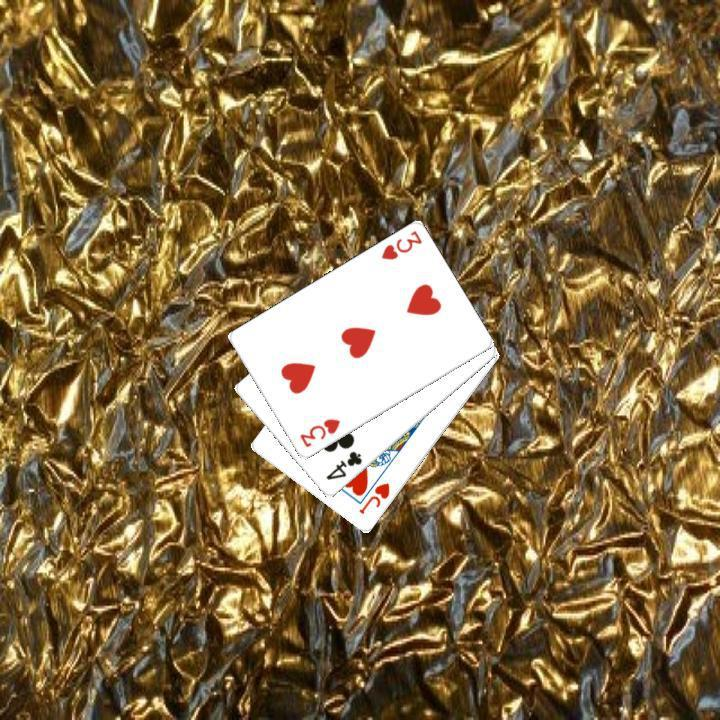3: (295, 414, 342, 450), (377, 227, 424, 262)
4: (322, 447, 364, 482)
J: (354, 479, 392, 517)
